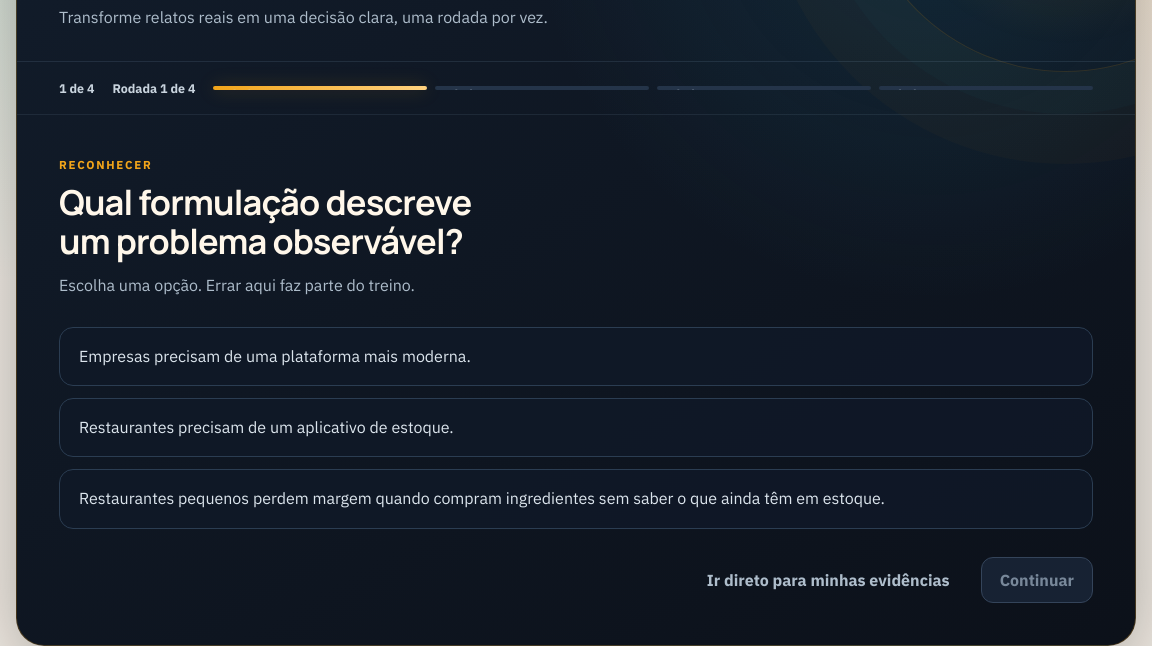
Test: ProblemRefinementChallenge › keeps the evidence round limited to five stable interview cards
(page scrolled)
Click the button "Ir direto para minhas evidências". click: (828, 580)
box: [688,556,969,602]
(page scrolled)
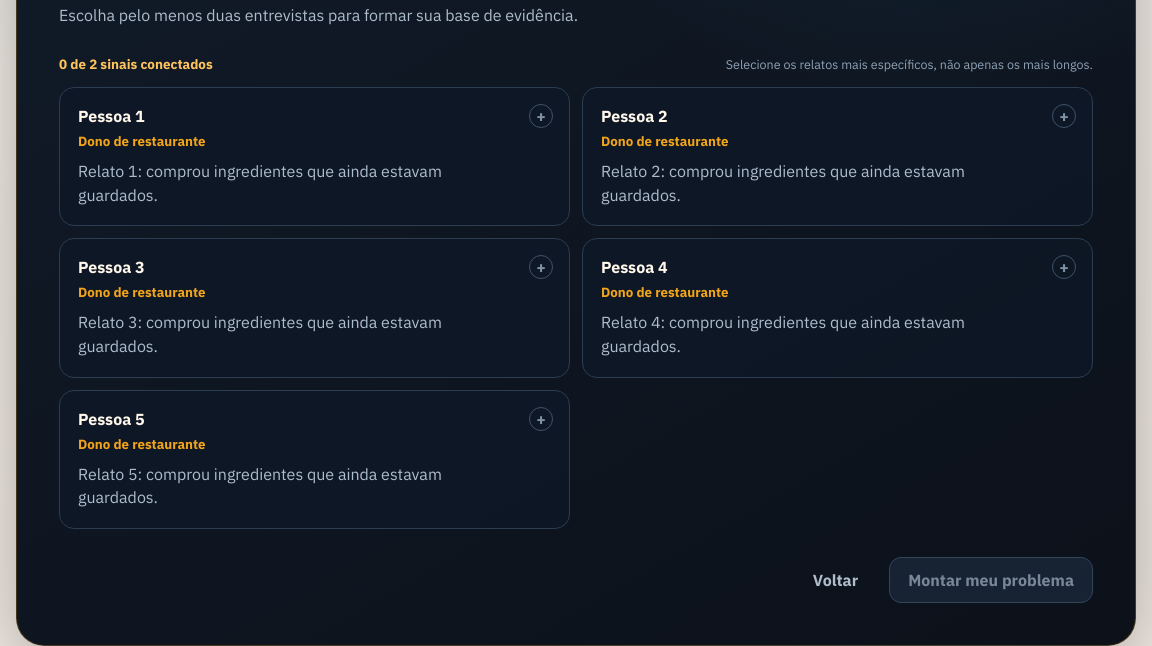
Check: the button "Pessoa 5" is shown, box [59,390,570,529]
